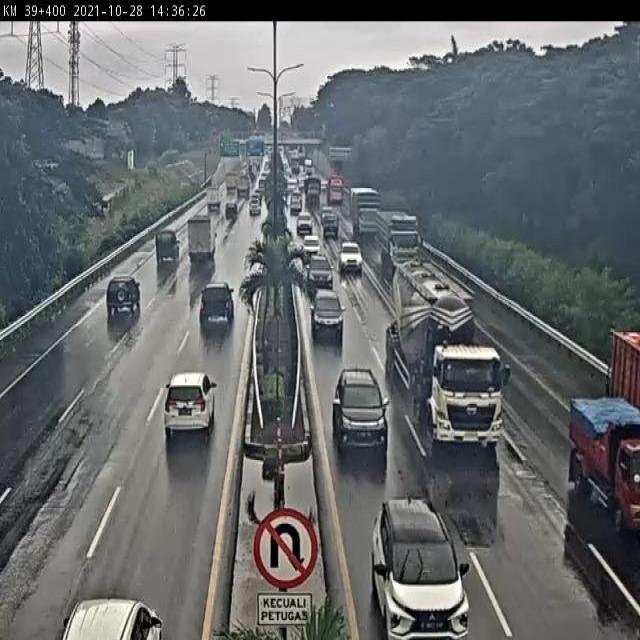big truck: (385, 263, 504, 449), (375, 211, 423, 273), (186, 218, 216, 266)
car: (371, 498, 473, 640), (330, 363, 388, 444), (163, 370, 216, 438), (312, 289, 346, 340), (198, 282, 236, 326), (105, 276, 140, 316), (306, 252, 334, 289), (154, 227, 180, 265), (339, 243, 363, 273), (302, 232, 322, 259), (322, 212, 340, 235)
